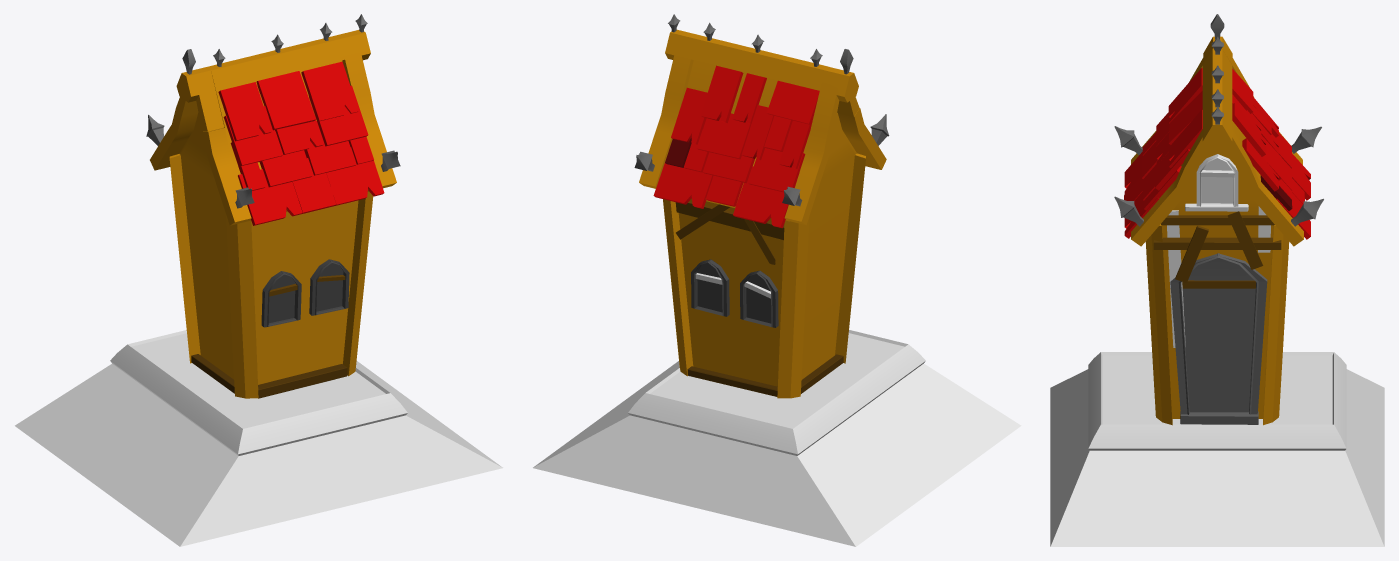
Rendered from house_work.fbx.
3 renders of one model, left to right at view 1: azimuth 30°, elevation 25°; view 2: azimuth 150°, elevation 25°; view 3: azimuth 270°, elevation 25°, orthographic.
Visible parts, largest first — view 1: polySurface148; view 2: polySurface148; view 3: polySurface148.
Boxes of the visible parts, left/top/right/bottom form: polySurface148: left=15, top=14, right=502, bottom=546; polySurface148: left=533, top=14, right=1021, bottom=546; polySurface148: left=1050, top=14, right=1384, bottom=546.
Size of the model in its own units: 8.73 by 10.69 by 7.74.
